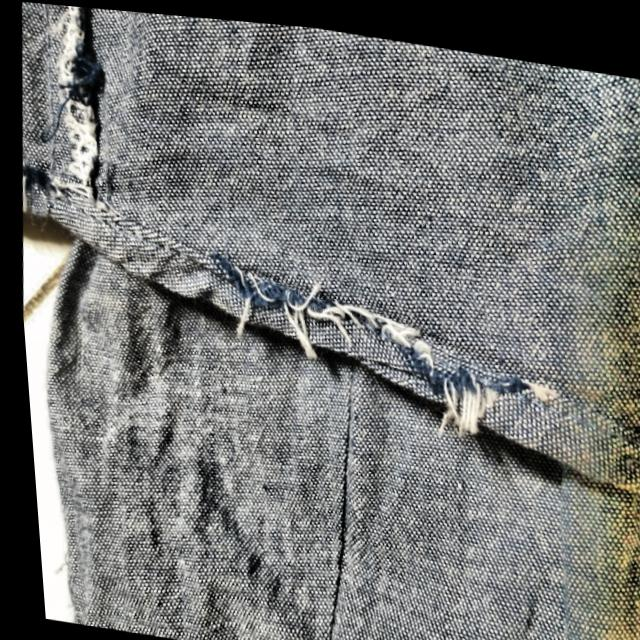Stitch: (182, 240, 539, 449)
